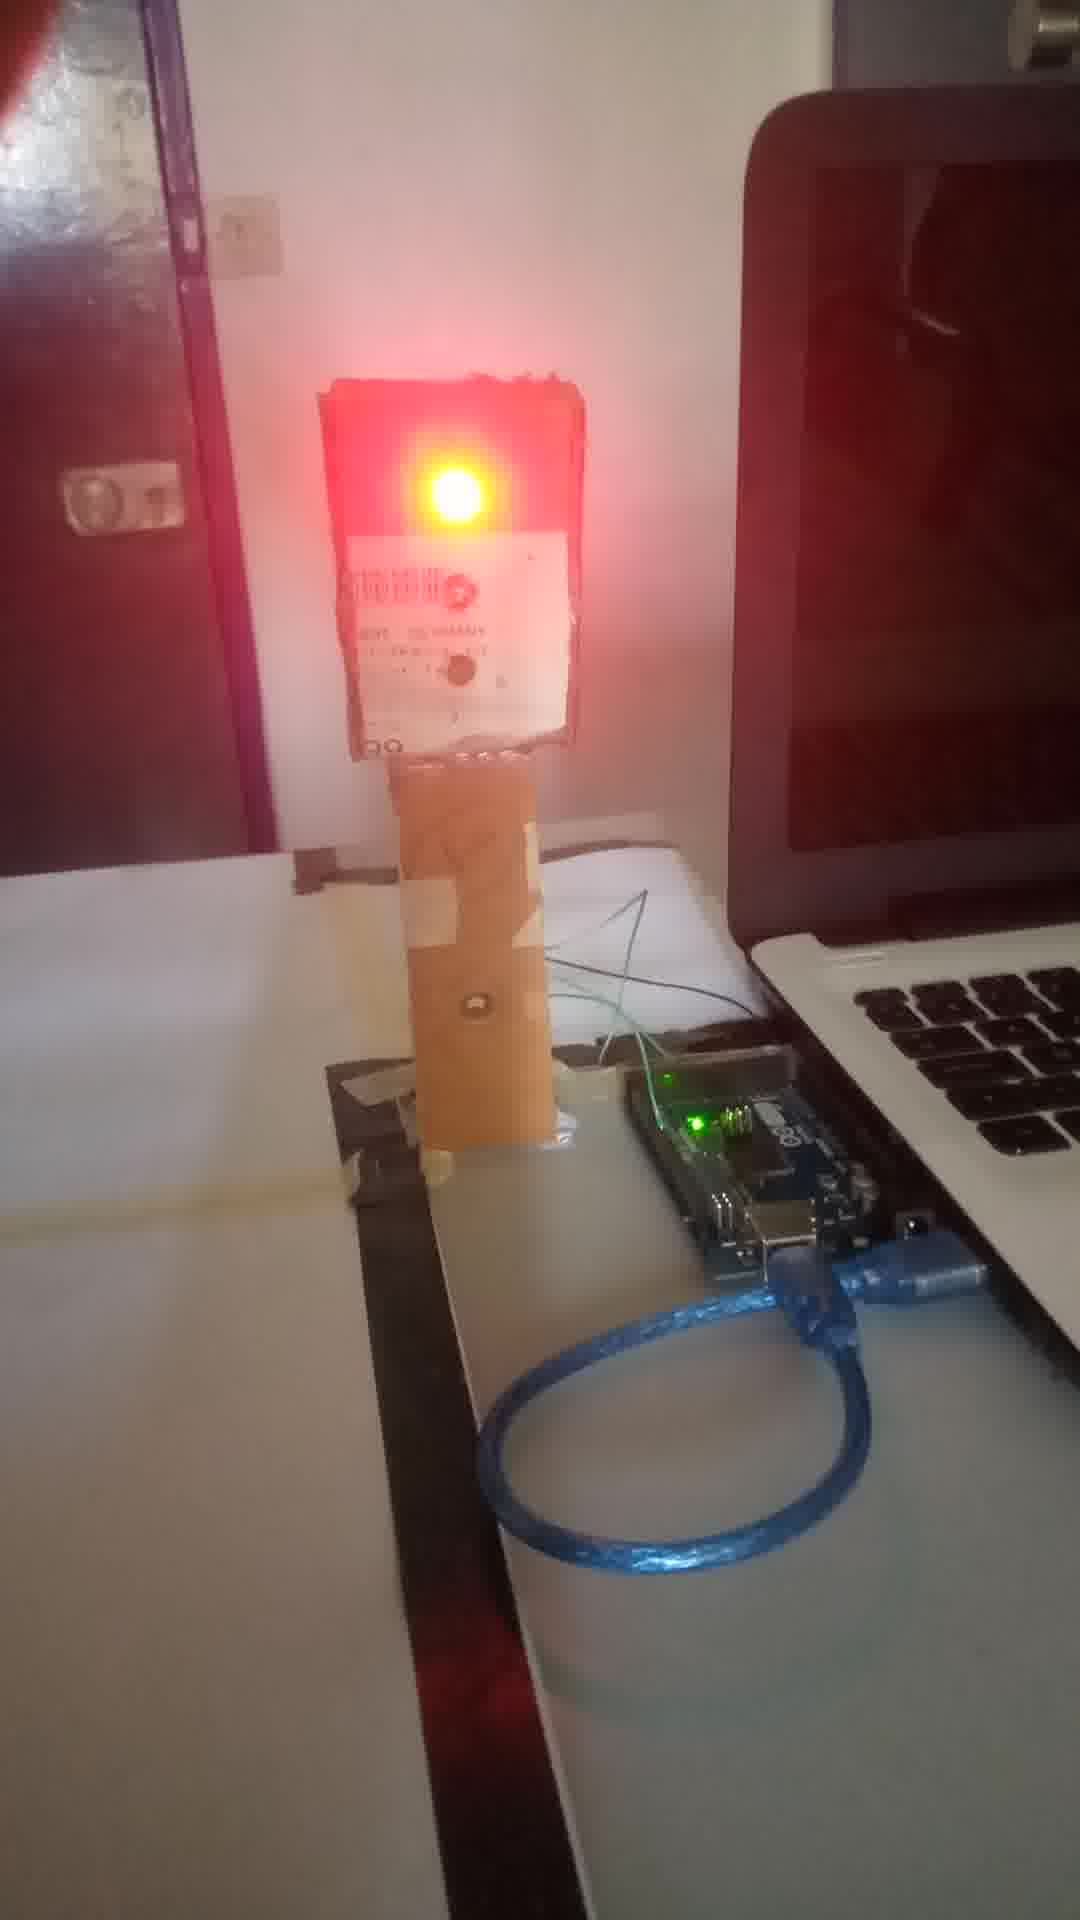red: (327, 382, 575, 760)
